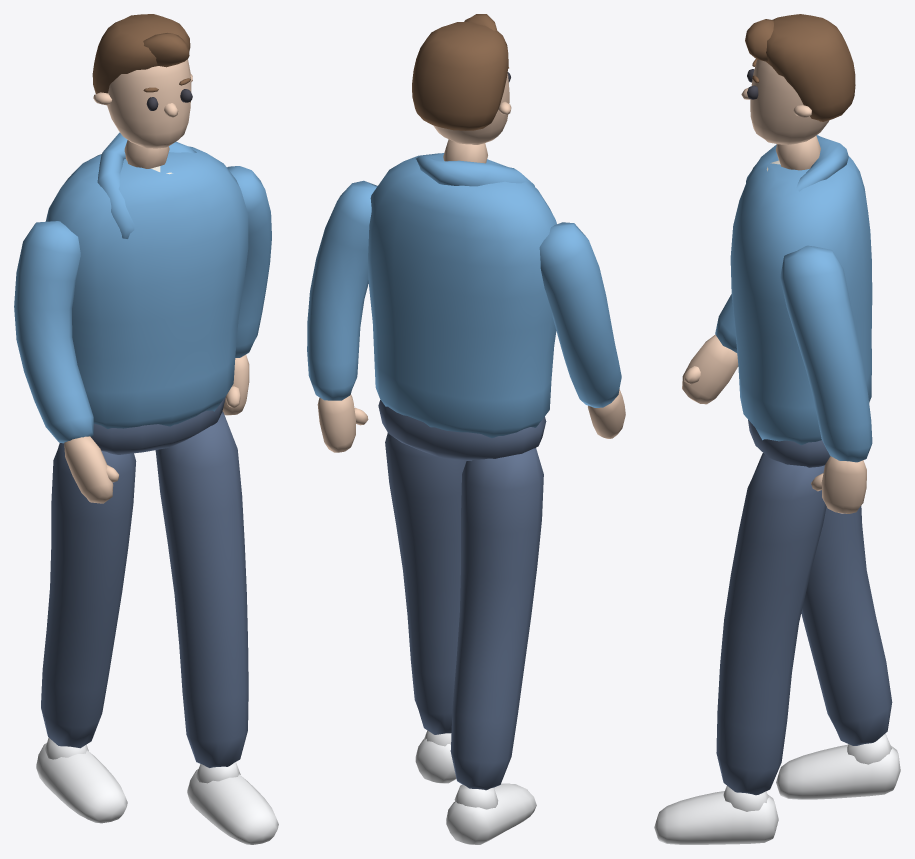
Rendered from Pedestrian.fbx.
3 views of the same model, side by side, from view 1: azimuth 30°, elevation 25°; view 2: azimuth 150°, elevation 25°; view 3: azimuth 270°, elevation 25° (orthographic). The views are drawn at different scales.
Visible parts, largest first — view 1: Pedestrian; view 2: Pedestrian; view 3: Pedestrian.
Boxes of the visible parts, <box> form: Pedestrian: <box>14,14,278,844</box>; Pedestrian: <box>307,14,625,844</box>; Pedestrian: <box>654,14,900,844</box>.
Size of the model in its own units: 63.22 by 175 by 49.05.
